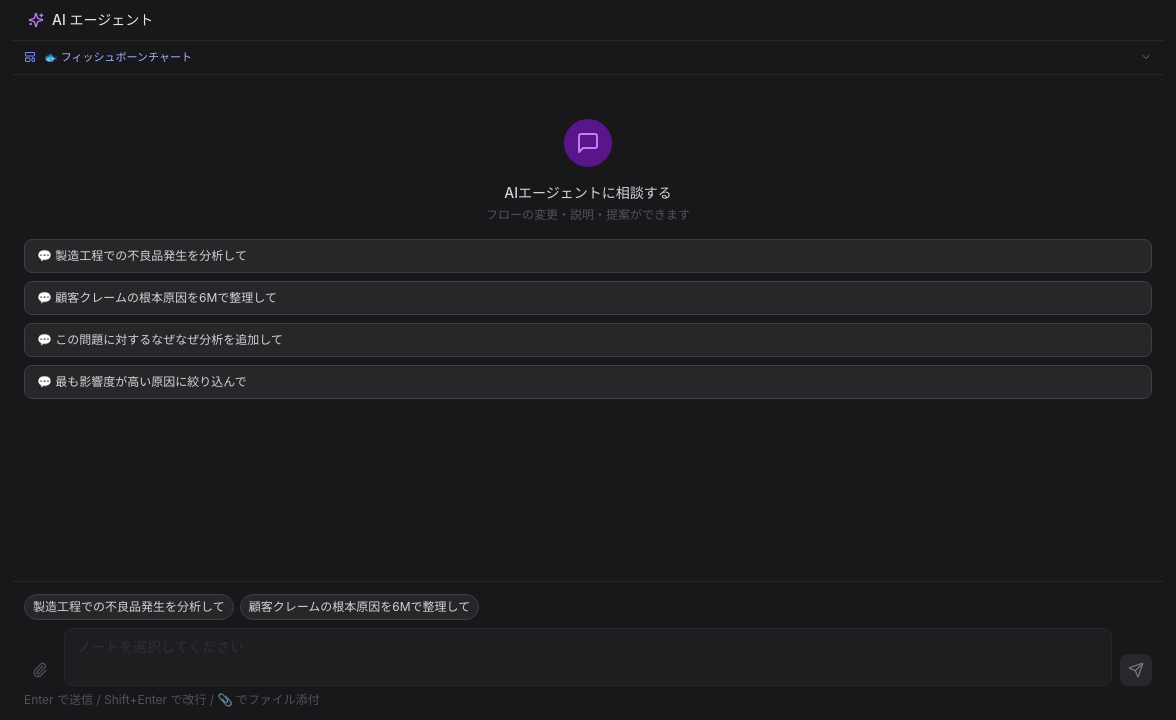
ChatPanel – テンプレート対応 › テンプレートバッジを折りたたみクリックでシステムプロンプトが展開される
This screenshot has width=1176, height=720.
# Click the template badge to expand
Click the button "🐟 フィッシュボーンチャート" at x=126, y=57, box [12,41,1164,74]
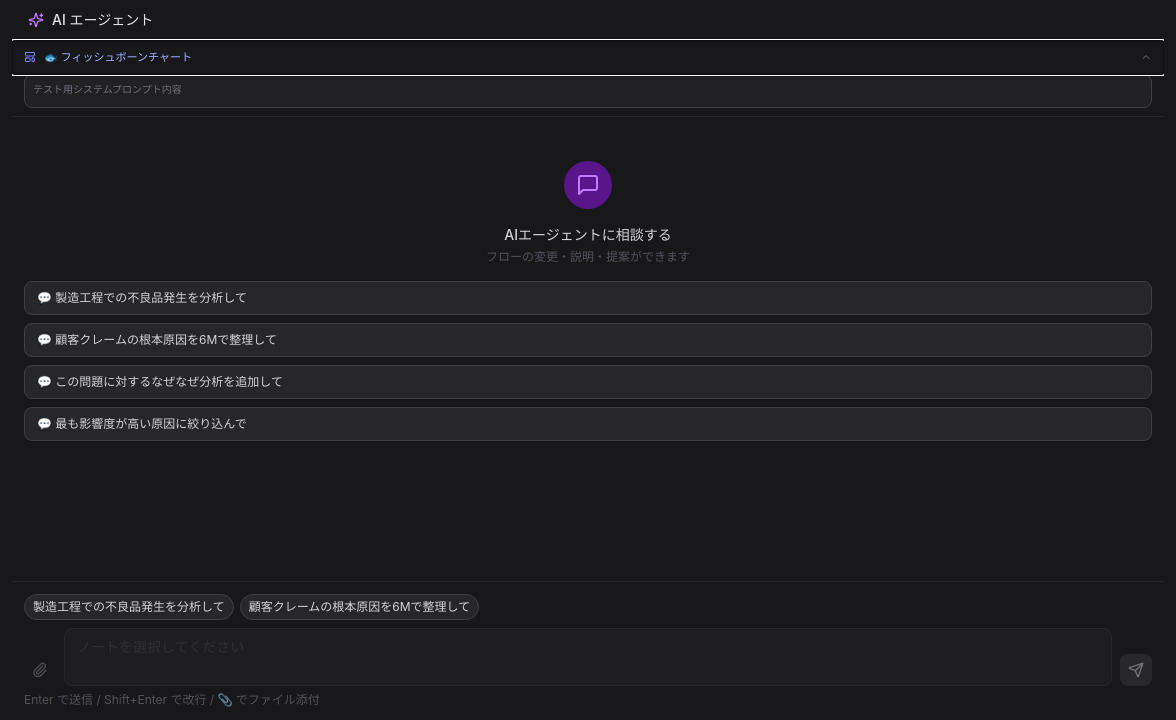
Now the text "テスト用システムプロンプト内容" is shown, box [24,74,1152,108]
